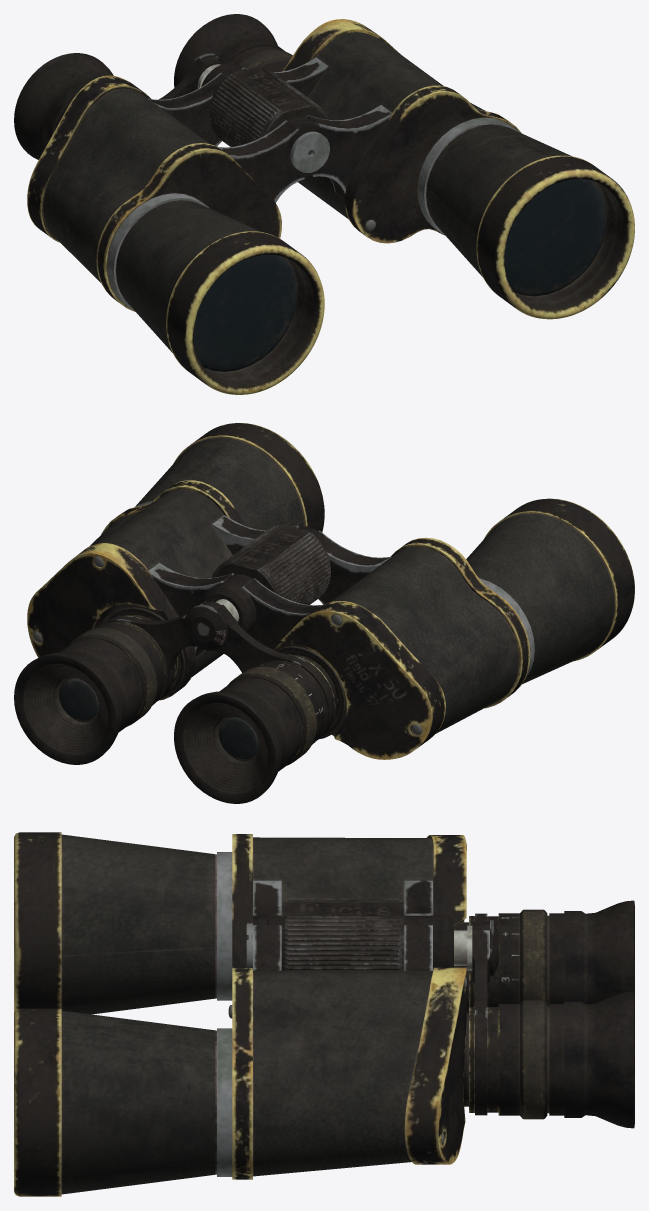
3 renders of one model, top to bottom at view 1: azimuth 30°, elevation 25°; view 2: azimuth 150°, elevation 25°; view 3: azimuth 270°, elevation 25°, orthographic. The views are drawn at different scales.
Visible parts, largest first — view 1: vintage_binocular_right_prism, vintage_binocular_left_prism, vintage_binocular_right_lens, vintage_binocular_focus, vintage_binocular_left_lens, vintage_binocular_middle; view 2: vintage_binocular_right_prism, vintage_binocular_left_prism, vintage_binocular_left_lens, vintage_binocular_right_lens, vintage_binocular_focus, vintage_binocular_diopter, vintage_binocular_eye_relief, vintage_binocular_middle; view 3: vintage_binocular_left_prism, vintage_binocular_right_prism, vintage_binocular_left_lens, vintage_binocular_right_lens, vintage_binocular_focus, vintage_binocular_diopter, vintage_binocular_middle, vintage_binocular_eye_relief.
Boxes of the visible parts, left/top/right/bottom form: vintage_binocular_right_prism: left=27, top=73, right=324, bottom=394; vintage_binocular_left_prism: left=223, top=19, right=634, bottom=319; vintage_binocular_right_lens: left=14, top=53, right=224, bottom=159; vintage_binocular_focus: left=209, top=67, right=328, bottom=146; vintage_binocular_left_lens: left=174, top=14, right=292, bottom=87; vintage_binocular_middle: left=201, top=63, right=329, bottom=172; vintage_binocular_right_prism: left=228, top=498, right=634, bottom=759; vintage_binocular_left_prism: left=27, top=423, right=324, bottom=700; vintage_binocular_left_lens: left=14, top=600, right=217, bottom=764; vintage_binocular_right_lens: left=174, top=601, right=336, bottom=803; vintage_binocular_focus: left=211, top=525, right=330, bottom=604; vintage_binocular_diopter: left=227, top=661, right=324, bottom=765; vintage_binocular_eye_relief: left=184, top=599, right=239, bottom=650; vintage_binocular_middle: left=200, top=582, right=256, bottom=633; vintage_binocular_left_prism: left=14, top=915, right=466, bottom=1196; vintage_binocular_right_prism: left=14, top=832, right=466, bottom=1018; vintage_binocular_left_lens: left=463, top=923, right=634, bottom=1128; vintage_binocular_right_lens: left=456, top=900, right=634, bottom=1012; vintage_binocular_focus: left=281, top=898, right=404, bottom=970; vintage_binocular_diopter: left=498, top=909, right=547, bottom=1003; vintage_binocular_middle: left=246, top=914, right=453, bottom=970; vintage_binocular_eye_relief: left=454, top=920, right=498, bottom=976.
Size of the model in its own units: 0.194 by 0.0684 by 0.1992.
Materials: 1 (1 with a texture image).
